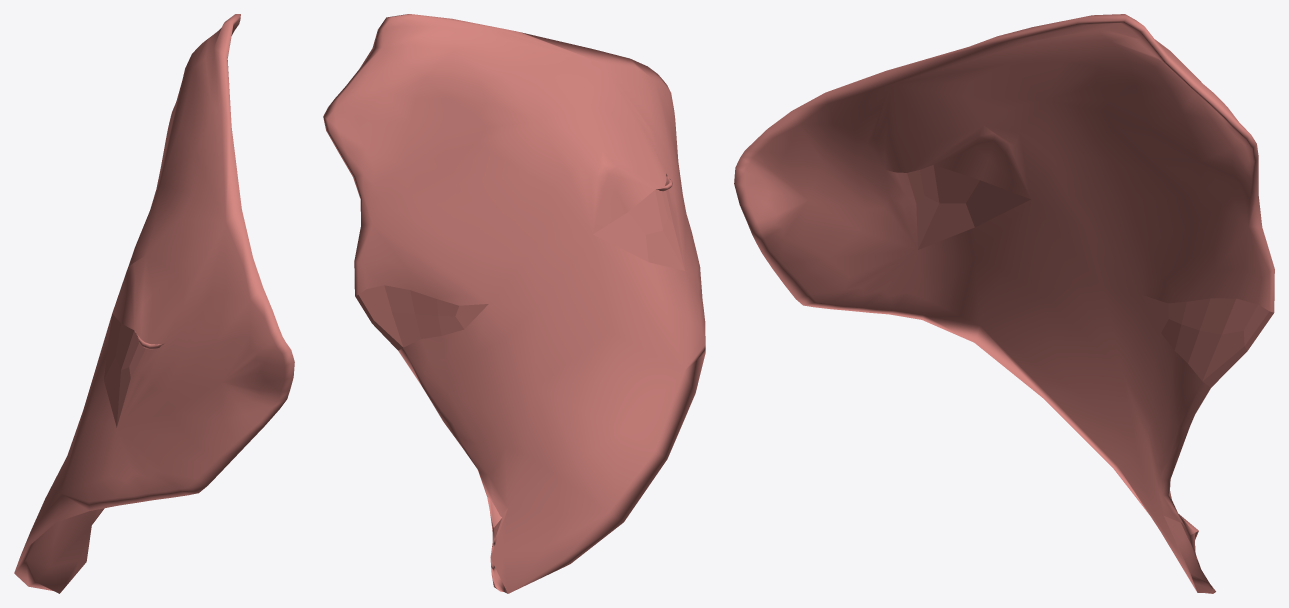
The picture shows the model from 3 angles, left to right: view 1: azimuth 30°, elevation 25°; view 2: azimuth 150°, elevation 25°; view 3: azimuth 270°, elevation 25°; orthographic projection. The views are drawn at different scales.
Parts seen in each view (by area): view 1: ZA_d6dc4a69fafb3bac; view 2: ZA_d6dc4a69fafb3bac; view 3: ZA_d6dc4a69fafb3bac.
Part boxes in pixels (x1,y1,x2,y2): ZA_d6dc4a69fafb3bac: (14, 14, 294, 593); ZA_d6dc4a69fafb3bac: (323, 14, 705, 593); ZA_d6dc4a69fafb3bac: (734, 14, 1274, 593).
Bounding box in the file's own units: 0.0163 × 0.0312 × 0.0233.
